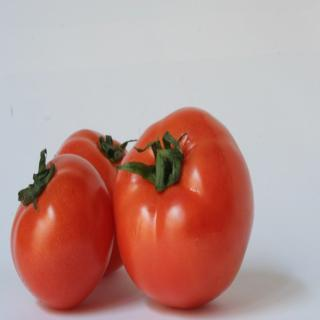tomato: (113, 104, 255, 308), (10, 147, 115, 309), (56, 127, 136, 271)
